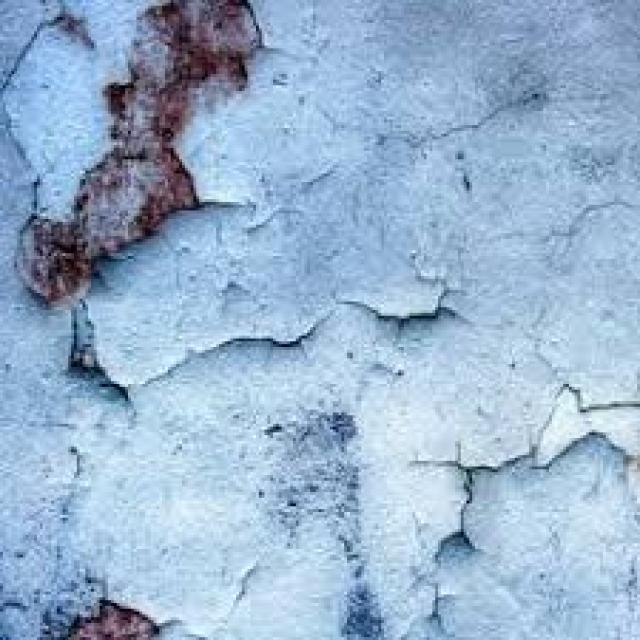stain_mould: (0, 0, 639, 637)
